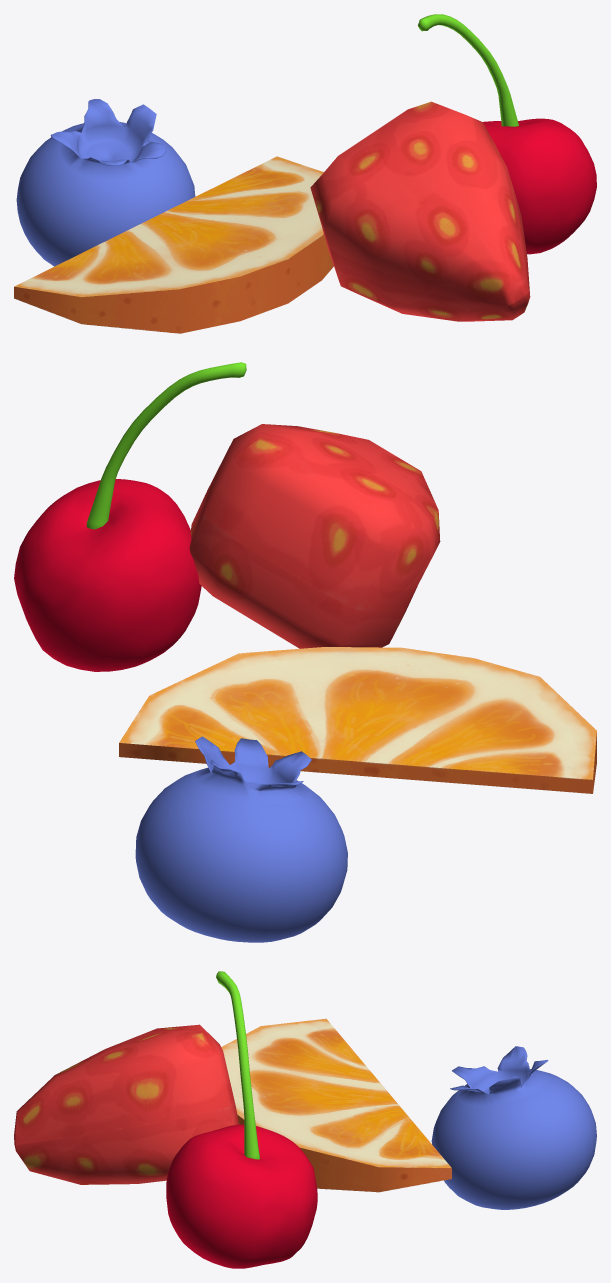
Rendered from decor.fbx.
The picture shows the model from 3 angles, top to bottom: view 1: azimuth 30°, elevation 25°; view 2: azimuth 150°, elevation 25°; view 3: azimuth 270°, elevation 25°; orthographic projection. The views are drawn at different scales.
Parts seen in each view (by area): view 1: strawberry, orangeslice, Blueberry1_0, Cherry1_0; view 2: orangeslice, strawberry, Blueberry1_0, Cherry1_0; view 3: strawberry, orangeslice, Cherry1_0, Blueberry1_0.
Boxes of the visible parts, x1,y1,x2,y2 form: strawberry: (310,101,530,321); orangeslice: (14,156,333,333); Blueberry1_0: (16,99,195,266); Cherry1_0: (418,14,596,254); orangeslice: (119,647,596,793); strawberry: (189,424,440,648); Blueberry1_0: (135,736,347,942); Cherry1_0: (14,362,246,671); strawberry: (14,1024,239,1184); orangeslice: (221,1018,451,1192); Cherry1_0: (166,971,317,1268); Blueberry1_0: (431,1046,596,1209).
Bounding box in the file's own units: 310 × 184 × 323.
